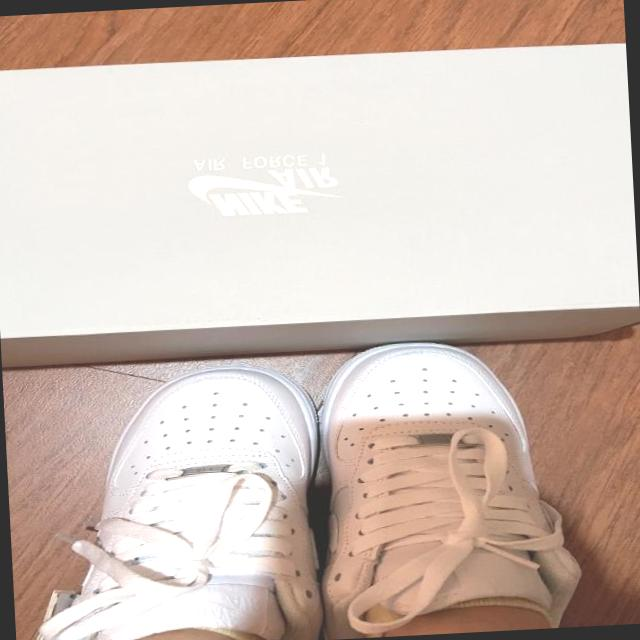nike_original_airforce: (307, 327, 585, 640), (60, 362, 343, 640)
